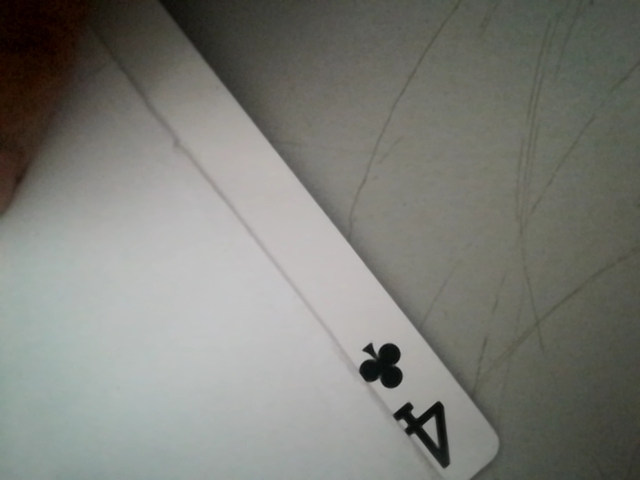mh 4: (341, 331, 475, 475)
